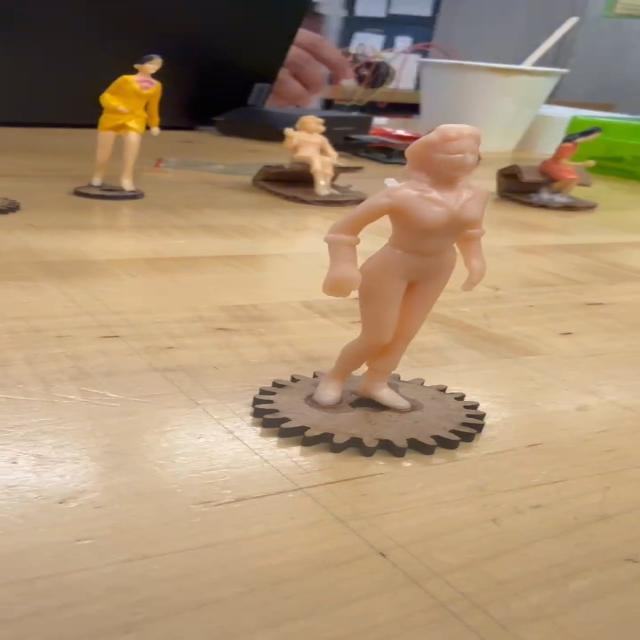Unauthorized: (324, 124, 503, 430)
